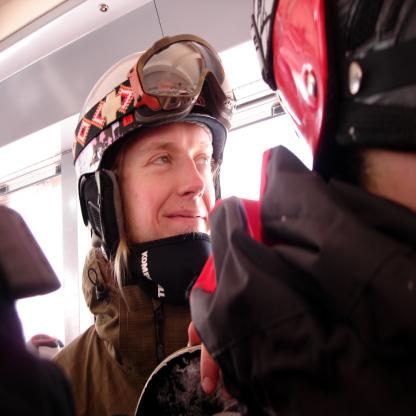Helmet: (78, 34, 233, 285), (250, 0, 416, 176)
